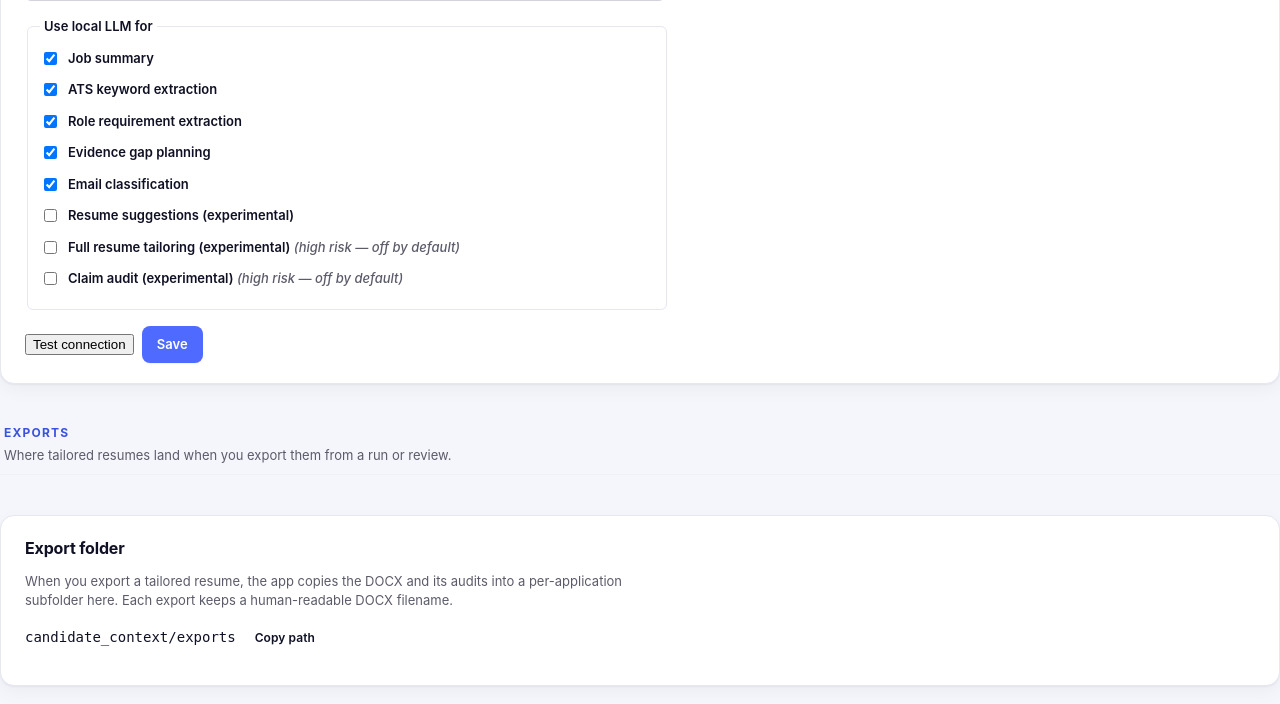
Scenario: SettingsPage – Local LLM card › surfaces a test-connection failure
(page scrolled)
Click the button "Test connection".
click(79, 344)  # box top-left (25, 334), bottom-right (134, 355)
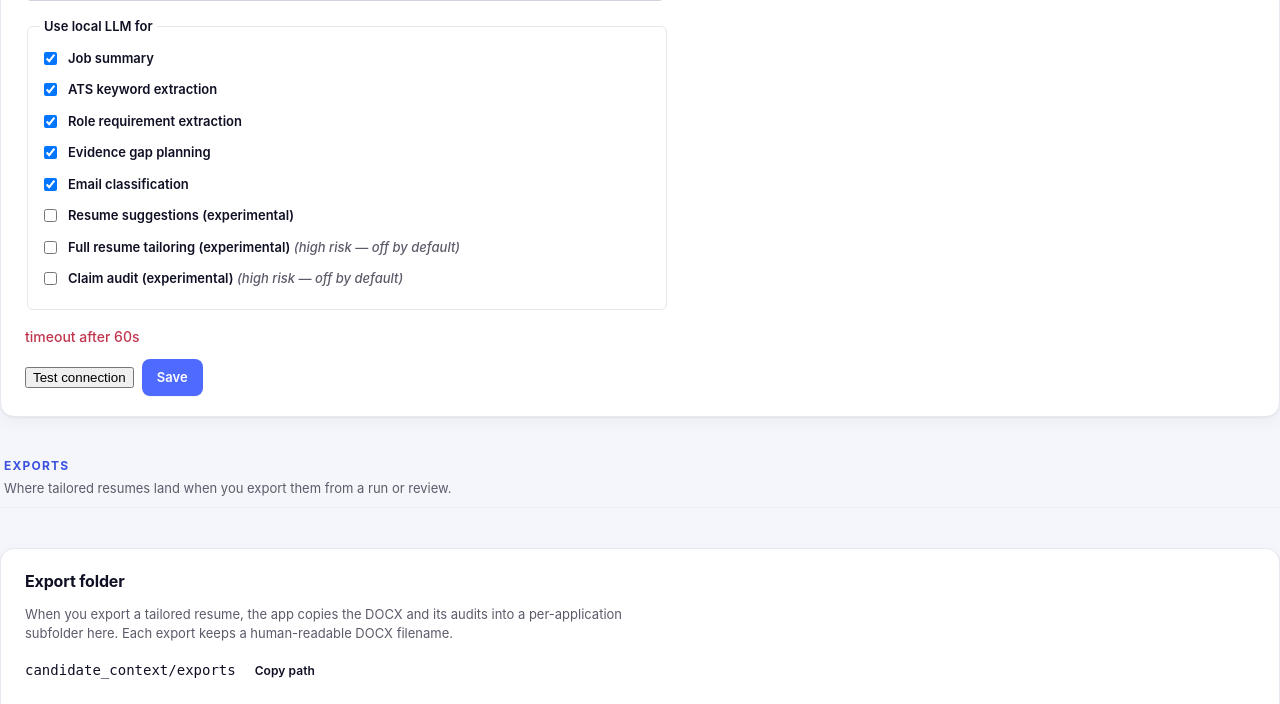
Result: the text "timeout after 60s" is shown at top-left (25, 328), bottom-right (140, 344)
